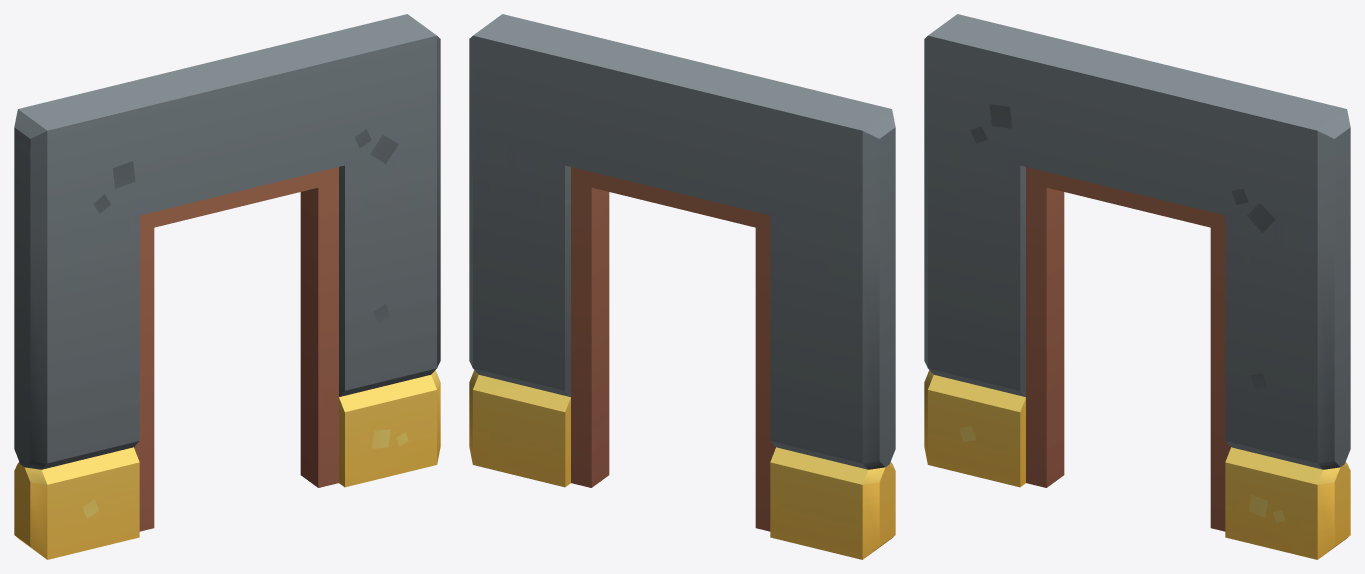
The model's file is wall-doorway.glb.
3 renders of one model, left to right at view 1: azimuth 30°, elevation 25°; view 2: azimuth 150°, elevation 25°; view 3: azimuth 330°, elevation 25°, orthographic.
Visible parts, largest first — view 1: Wall_Doorway; view 2: Wall_Doorway; view 3: Wall_Doorway.
Part boxes in pixels (box(x1,y1,x2,y2)): Wall_Doorway: box(14, 14, 440, 559); Wall_Doorway: box(469, 14, 895, 559); Wall_Doorway: box(924, 14, 1350, 559).
Size of the model in its own units: 4 by 4 by 0.5298.
1 material, 1 textured.
